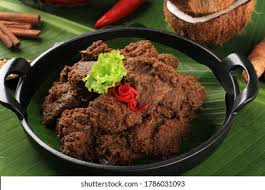rendang: (38, 38, 208, 166)
